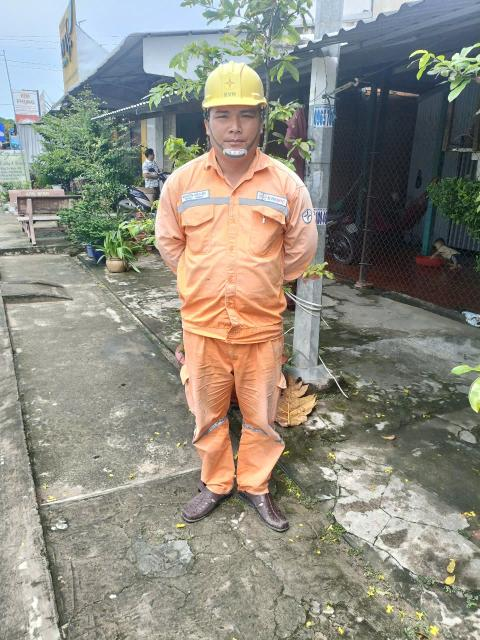helmet: (188, 45, 297, 134)
shoes: (185, 461, 237, 526), (239, 470, 288, 532)
